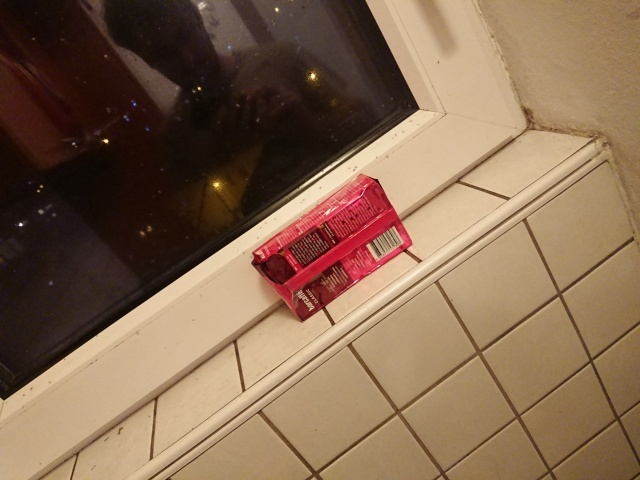Barcaffe Classic Original 225g: (249, 170, 416, 324)
